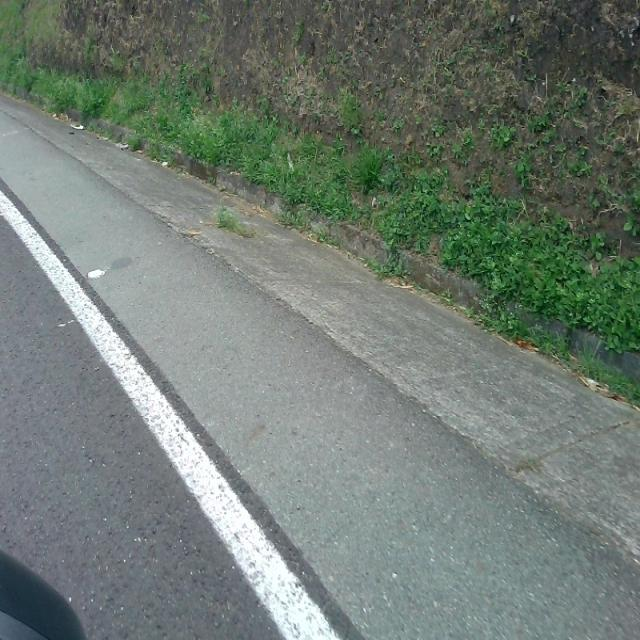DITCH: (2, 3, 638, 637), (1, 9, 638, 638), (1, 90, 639, 639)
